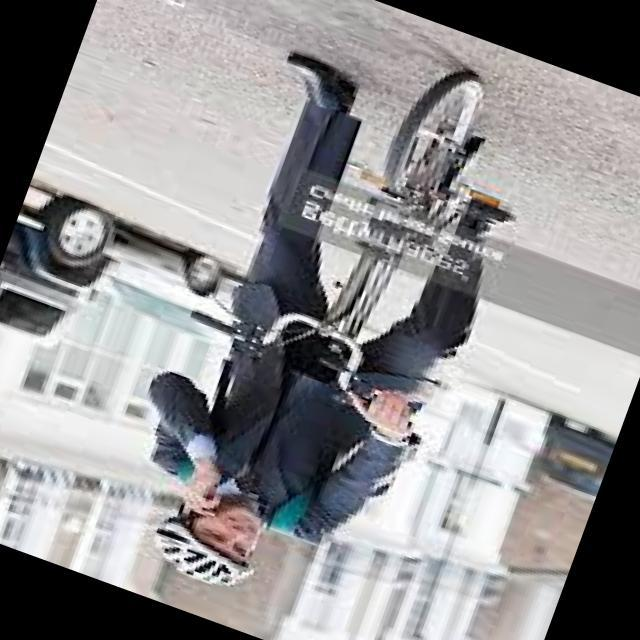USING_MOBILE: (170, 480, 228, 536)
WITH_HELMET: (132, 509, 264, 606)
